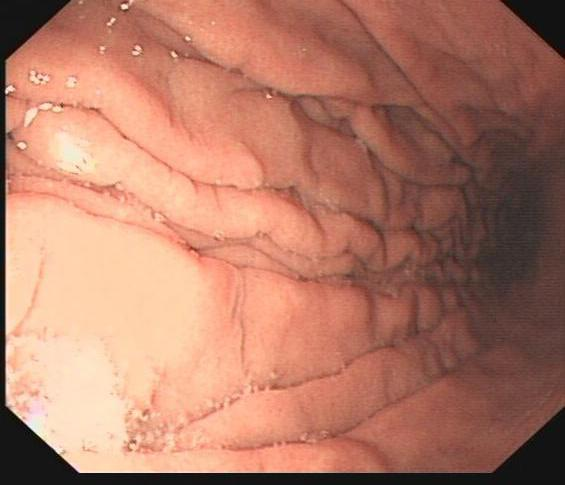Polyp: (221, 144, 272, 202)
